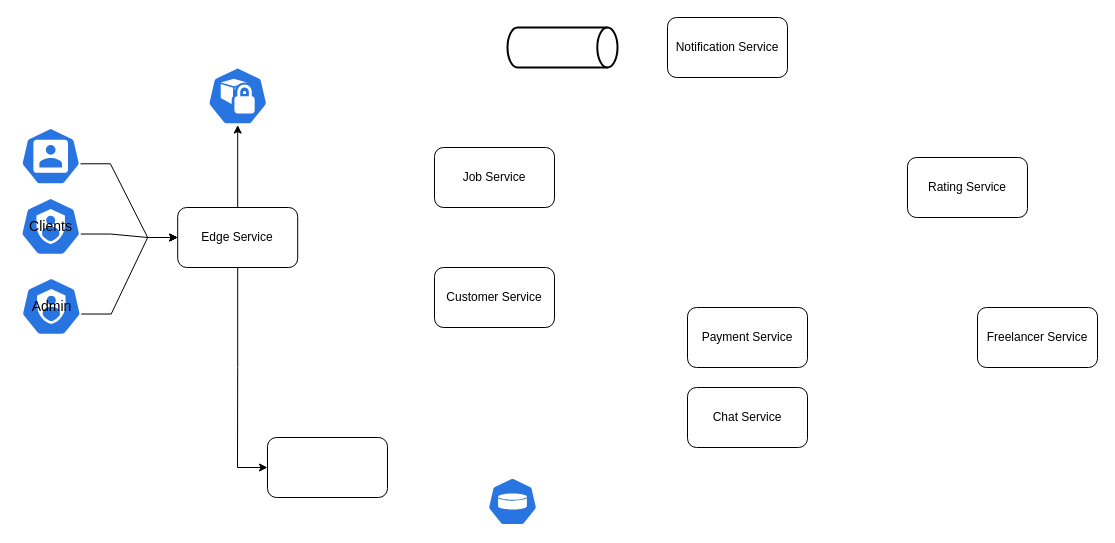
Image size: 1115x543. Some labels were removed from this diagram. Here are the shapes that lost their labels. From the top down, the box of each, then its label:
(506, 26, 618, 68): Event broker (kafka)
(206, 66, 268, 125): Keycloak Service
(20, 126, 81, 185): Freelancer
(266, 436, 388, 498): Discovery Service
